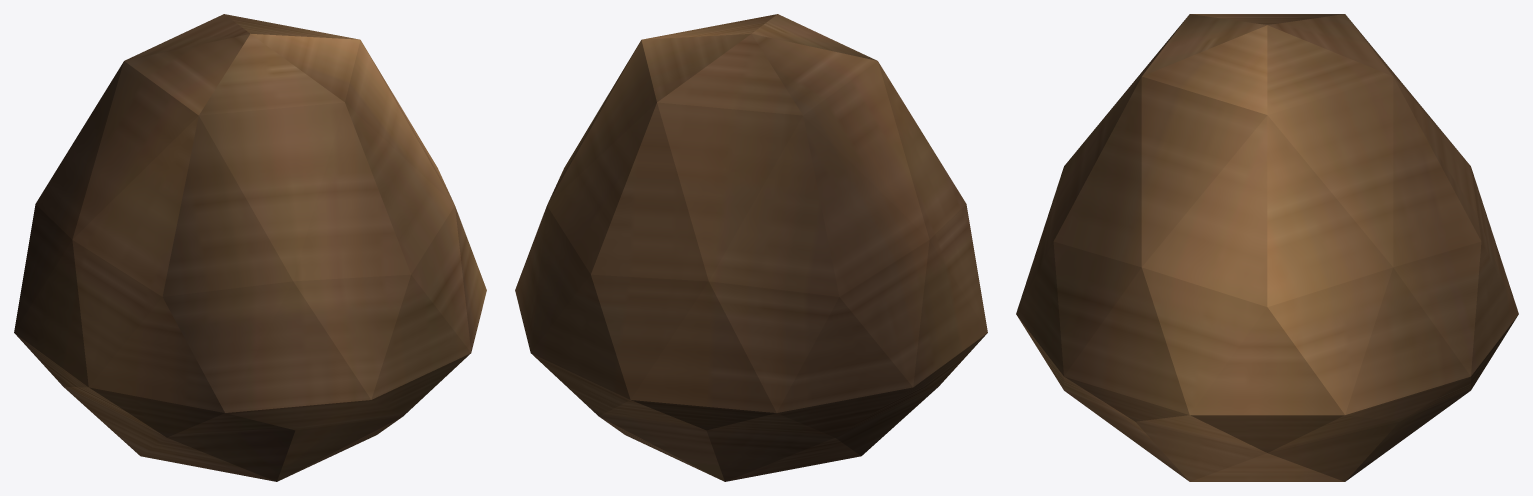
Rendered from enemy.obj.
3 renders of one model, left to right at view 1: azimuth 30°, elevation 25°; view 2: azimuth 150°, elevation 25°; view 3: azimuth 270°, elevation 25°, orthographic. The views are drawn at different scales.
Parts seen in each view (by area): view 1: ICO球; view 2: ICO球; view 3: ICO球.
Part boxes in pixels (<box>): ICO球: <box>14,14,486,481</box>; ICO球: <box>515,14,987,481</box>; ICO球: <box>1016,14,1518,481</box>.
Size of the model in its own units: 1.9 by 1.96 by 2.
1 material, 1 textured.
